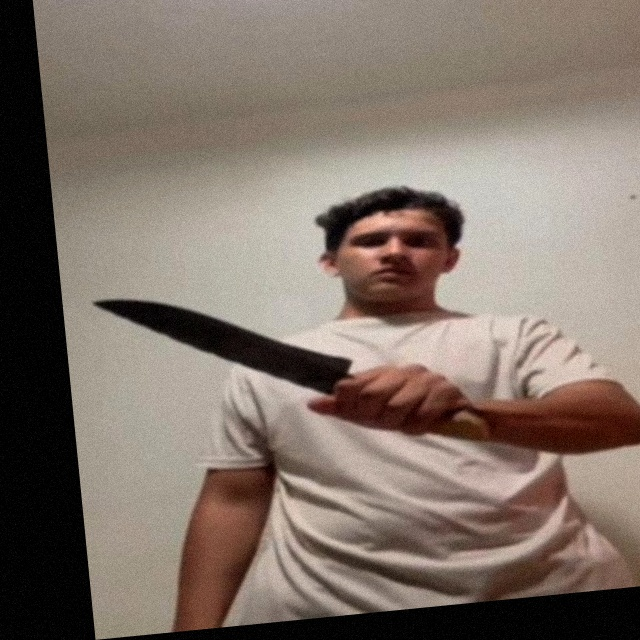Sharp-Object: (89, 275, 353, 406)
